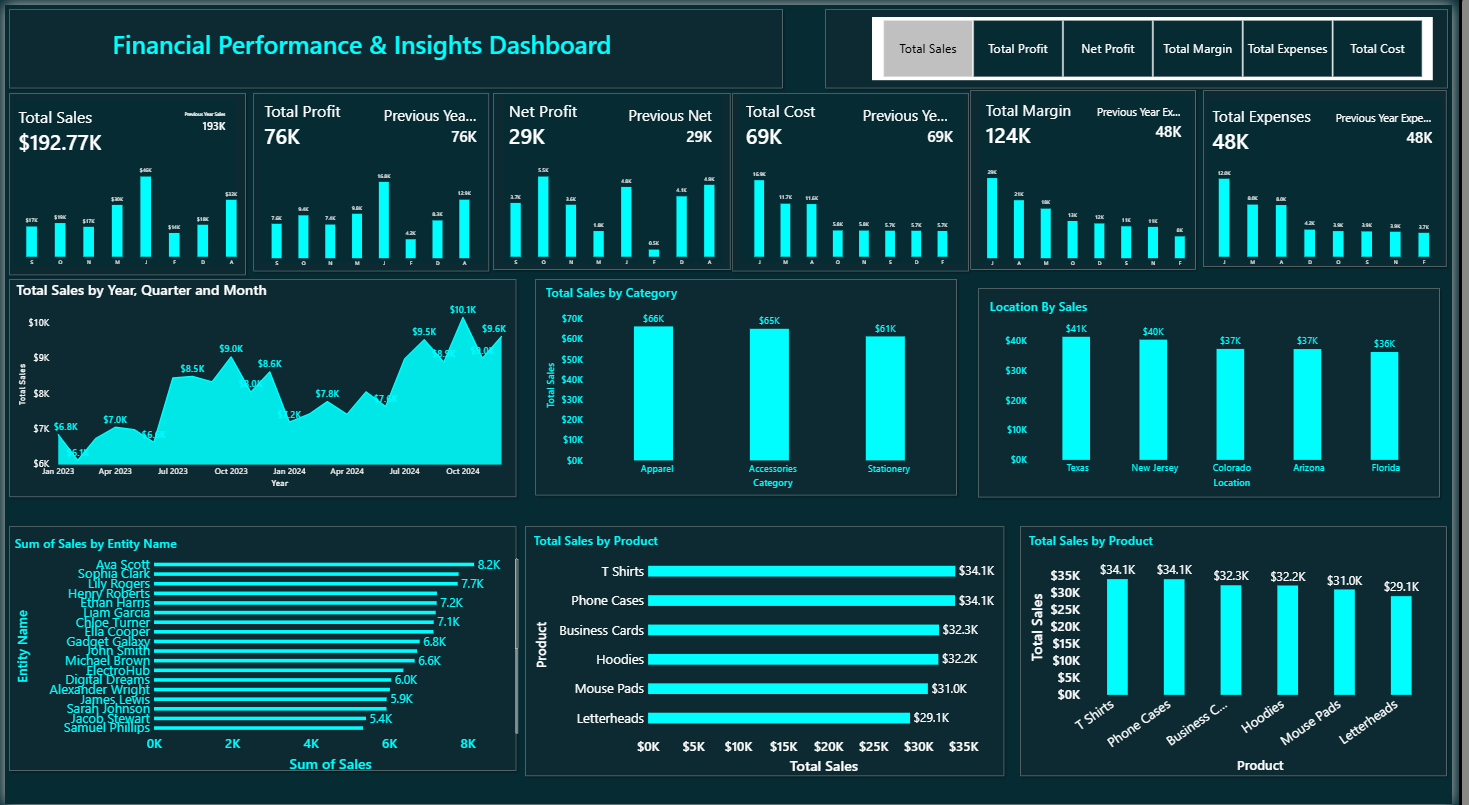

What the dashboard file says about the page in this screenshot:
{"tool":"powerbi","page":{"name":"Dashboard","canvas":[3250,1796],"ordinal":0},"visuals":[{"type":"shape","box":[2177.6,626.1,1055.3,488.3],"z":0},{"type":"shape","box":[2272.1,1161.7,976.6,578.9],"z":1000},{"type":"columnChart","fields":{"Y":["Measure_Table.Total Sales"],"Category":["sales.Product"]},"box":[2295.7,1181.3,925.4,547.4],"z":2000},{"type":"shape","box":[0,1161.7,1157.7,567],"z":3000},{"type":"shape","box":[1157.7,1161.7,1094.7,578.9],"z":4000},{"type":"shape","box":[1181.3,606.4,964.8,504],"z":5000},{"type":"shape","box":[0,606.4,1157.7,508],"z":6000},{"type":"shape","box":[1832.3,0,1416.7,196.1],"z":7000},{"type":"shape","box":[2684.1,181.5,564.9,415.6],"z":8000},{"type":"shape","box":[1624.5,187.3,550.3,418.6],"z":9000},{"type":"shape","box":[1088.9,187.3,550.3,415.6],"z":10000},{"type":"shape","box":[0,187.3,550.3,427.3],"z":11000},{"type":"shape","box":[550.3,187.3,547.4,418.6],"z":12000},{"type":"shape","box":[2160.2,181.5,523.9,421.5],"z":13000},{"type":"cardVisual","fields":{"Data":["Measure_Table.Total Expenses"]},"box":[2684.1,196.1,564.9,401],"z":14000},{"type":"cardVisual","fields":{"Data":["Measure_Table.Total Margin"]},"box":[2174.8,181.5,509.3,415.6],"z":15000},{"type":"cardVisual","fields":{"Data":["Measure_Table.Total Cost"]},"box":[1633.3,181.5,535.6,415.6],"z":16000},{"type":"cardVisual","fields":{"Data":["Measure_Table.Net Profit"]},"box":[1103.5,181.5,526.9,415.6],"z":17000},{"type":"cardVisual","fields":{"Data":["Measure_Table.Total Profit"]},"box":[553.2,181.5,547.4,415.6],"z":18000},{"type":"cardVisual","fields":{"Data":["Measure_Table.Total Sales"]},"box":[0,196.9,535.5,409.5],"z":19000},{"type":"columnChart","fields":{"Category":["sales.Month Letter"],"Y":["Measure_Table.Total Sales"]},"box":[15.8,346.5,535.5,248.1],"z":20000},{"type":"columnChart","fields":{"Category":["sales.Month Letter"],"Y":["Measure_Table.Total Expenses"]},"box":[2697.4,346.5,535.5,248.1],"z":21000},{"type":"columnChart","fields":{"Category":["sales.Month Letter"],"Y":["Measure_Table.Total Margin"]},"box":[2177.6,350.5,504,248.1],"z":22000},{"type":"columnChart","fields":{"Category":["sales.Month Letter"],"Y":["Measure_Table.Total Cost"]},"box":[1653.9,346.5,492.2,248.1],"z":23000},{"type":"columnChart","fields":{"Category":["sales.Month Letter"],"Y":["Measure_Table.Net Profit"]},"box":[1106.5,346.5,519.8,248.1],"z":24000},{"type":"columnChart","fields":{"Category":["sales.Month Letter"],"Y":["Measure_Table.Total Profit"]},"box":[571,350.5,504,248.1],"z":25000},{"type":"slicer","fields":{"Values":["Parameter.Parameter"]},"box":[1949.2,27.6,1260.1,141.8],"z":26000},{"type":"areaChart","fields":{"Y":["Measure_Table.Total Sales"],"Category":["sales.Date.Variation.Date Hierarchy.Year","sales.Date.Variation.Date Hierarchy.Quarter","sales.Date.Variation.Date Hierarchy.Month","sales.Date.Variation.Date Hierarchy.Day"]},"box":[19.7,618.2,1138,472.5],"z":27000},{"type":"columnChart","fields":{"Y":["Measure_Table.Total Sales"],"Category":["sales.Category"]},"box":[1208.9,626.1,937.2,464.7],"z":28000},{"type":"columnChart","title":"Location By Sales","fields":{"Y":["Measure_Table.Total Sales"],"Category":["sales.Location"]},"box":[2209.1,657.6,1004.1,433.2],"z":29000},{"type":"barChart","fields":{"Category":["sales.Entity Name"],"Y":["Sum(sales.Sales)"]},"box":[15.8,1189.2,1142,539.5],"z":30000},{"type":"barChart","fields":{"Y":["Measure_Table.Total Sales"],"Category":["sales.Product"]},"box":[1181.3,1181.3,1090.8,551.3],"z":31000},{"type":"shape","box":[0,0,1756.2,196.1],"z":32000},{"type":"textbox","box":[99.5,26.3,1402.1,140.5],"z":33000}]}

Visuals, with their boxes in screenshot pixels (x1, y1, x2, y2), scaled from the page's 3250x1796 canvas onto the 1469x805 screenshot:
shape: [x1=984, y1=281, x2=1461, y2=499]
shape: [x1=1027, y1=521, x2=1468, y2=780]
columnChart - Measure_Table.Total Sales x sales.Product: [x1=1038, y1=529, x2=1456, y2=775]
shape: [x1=0, y1=521, x2=523, y2=775]
shape: [x1=523, y1=521, x2=1018, y2=780]
shape: [x1=534, y1=272, x2=970, y2=498]
shape: [x1=0, y1=272, x2=523, y2=499]
shape: [x1=828, y1=0, x2=1468, y2=88]
shape: [x1=1213, y1=81, x2=1468, y2=268]
shape: [x1=734, y1=84, x2=983, y2=272]
shape: [x1=492, y1=84, x2=741, y2=270]
shape: [x1=0, y1=84, x2=249, y2=275]
shape: [x1=249, y1=84, x2=496, y2=272]
shape: [x1=976, y1=81, x2=1213, y2=270]
cardVisual - Measure_Table.Total Expenses: [x1=1213, y1=88, x2=1468, y2=268]
cardVisual - Measure_Table.Total Margin: [x1=983, y1=81, x2=1213, y2=268]
cardVisual - Measure_Table.Total Cost: [x1=738, y1=81, x2=980, y2=268]
cardVisual - Measure_Table.Net Profit: [x1=499, y1=81, x2=737, y2=268]
cardVisual - Measure_Table.Total Profit: [x1=250, y1=81, x2=497, y2=268]
cardVisual - Measure_Table.Total Sales: [x1=0, y1=88, x2=242, y2=272]
columnChart - sales.Month Letter x Measure_Table.Total Sales: [x1=7, y1=155, x2=249, y2=267]
columnChart - sales.Month Letter x Measure_Table.Total Expenses: [x1=1219, y1=155, x2=1461, y2=267]
columnChart - sales.Month Letter x Measure_Table.Total Margin: [x1=984, y1=157, x2=1212, y2=268]
columnChart - sales.Month Letter x Measure_Table.Total Cost: [x1=748, y1=155, x2=970, y2=267]
columnChart - sales.Month Letter x Measure_Table.Net Profit: [x1=500, y1=155, x2=735, y2=267]
columnChart - sales.Month Letter x Measure_Table.Total Profit: [x1=258, y1=157, x2=486, y2=268]
slicer - Parameter.Parameter: [x1=881, y1=12, x2=1451, y2=76]
areaChart - Measure_Table.Total Sales x sales.Date.Variation.Date Hierarchy.Year: [x1=9, y1=277, x2=523, y2=489]
columnChart - Measure_Table.Total Sales x sales.Category: [x1=546, y1=281, x2=970, y2=489]
"Location By Sales" columnChart: [x1=999, y1=295, x2=1452, y2=489]
barChart - sales.Entity Name x Sum(sales.Sales): [x1=7, y1=533, x2=523, y2=775]
barChart - Measure_Table.Total Sales x sales.Product: [x1=534, y1=529, x2=1027, y2=777]
shape: [x1=0, y1=0, x2=794, y2=88]
textbox: [x1=45, y1=12, x2=679, y2=75]
